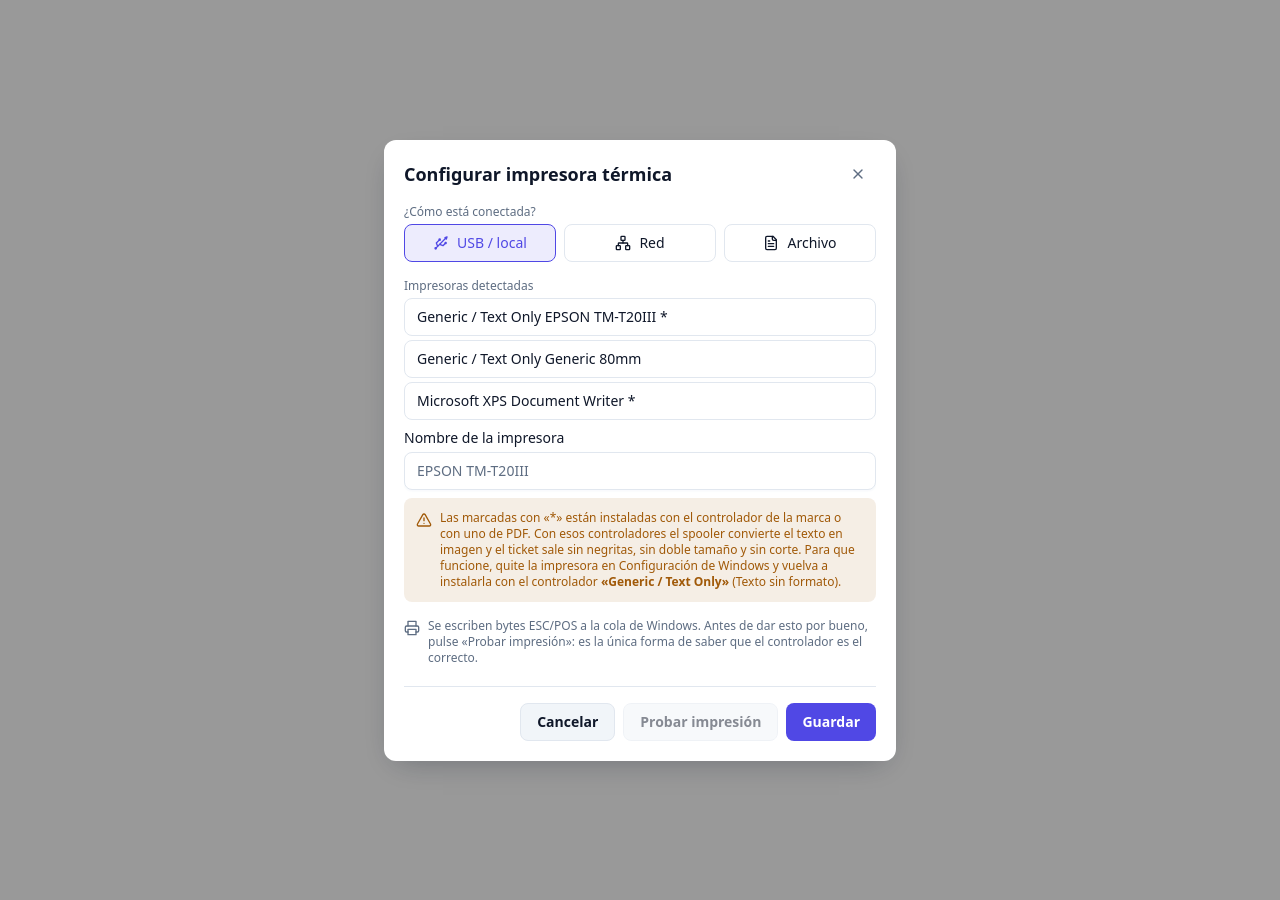
Scenario: ConfigurarImpresoraModal › abre en USB cuando no hay destino guardado y avisa de las colas sin texto sin formato
Click the button "Generic / Text Only Generic 80mm" at (640, 358), box x1=404 y1=340 x2=876 y2=378
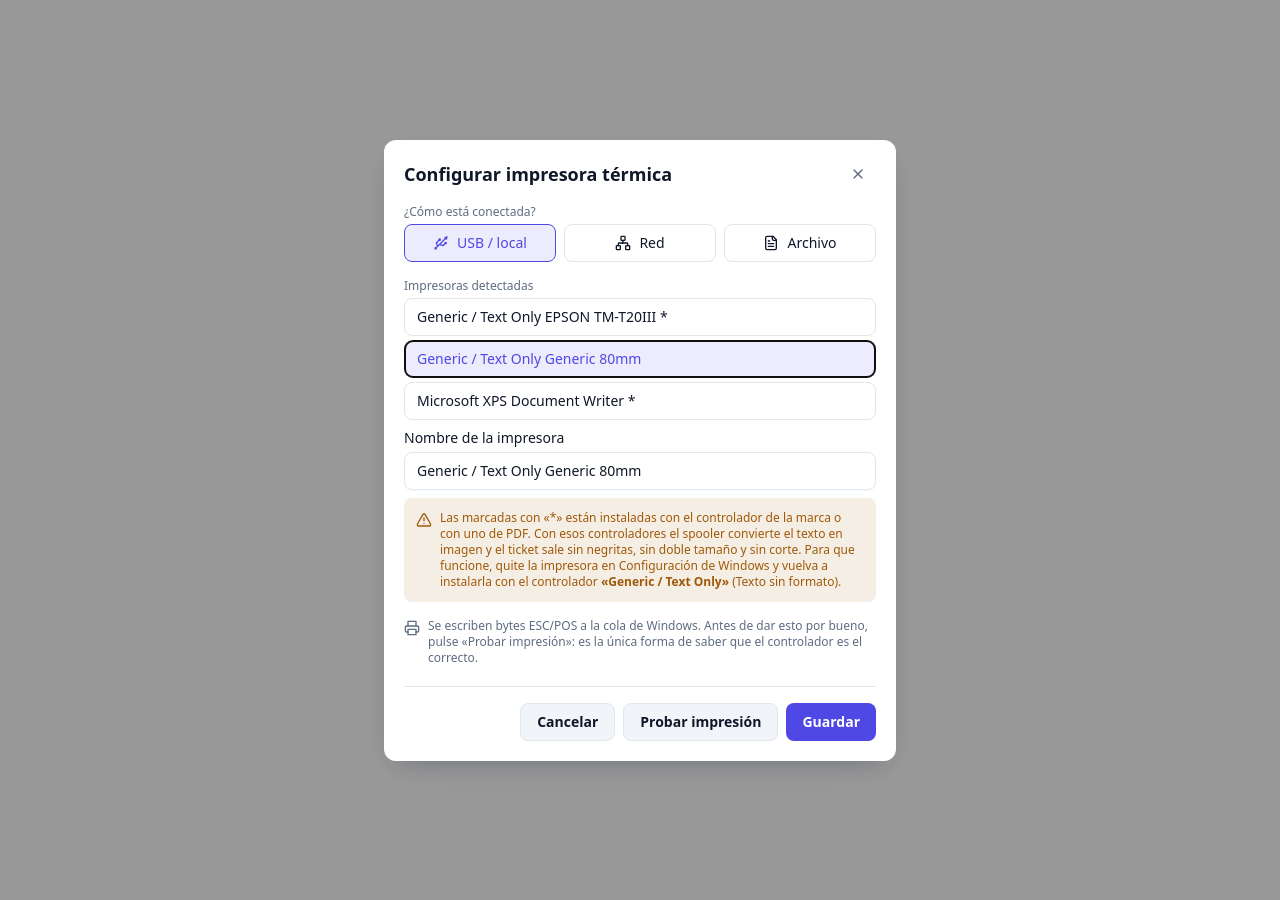
Expected: the text "Texto sin formato" is shown, x1=729 y1=572 x2=841 y2=590
Result: the field labelled "Nombre de la impresora" holds "Generic / Text Only Generic 80mm" at x1=404 y1=452 x2=876 y2=490
